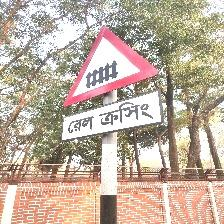Rail-crossing: (60, 25, 164, 147)
